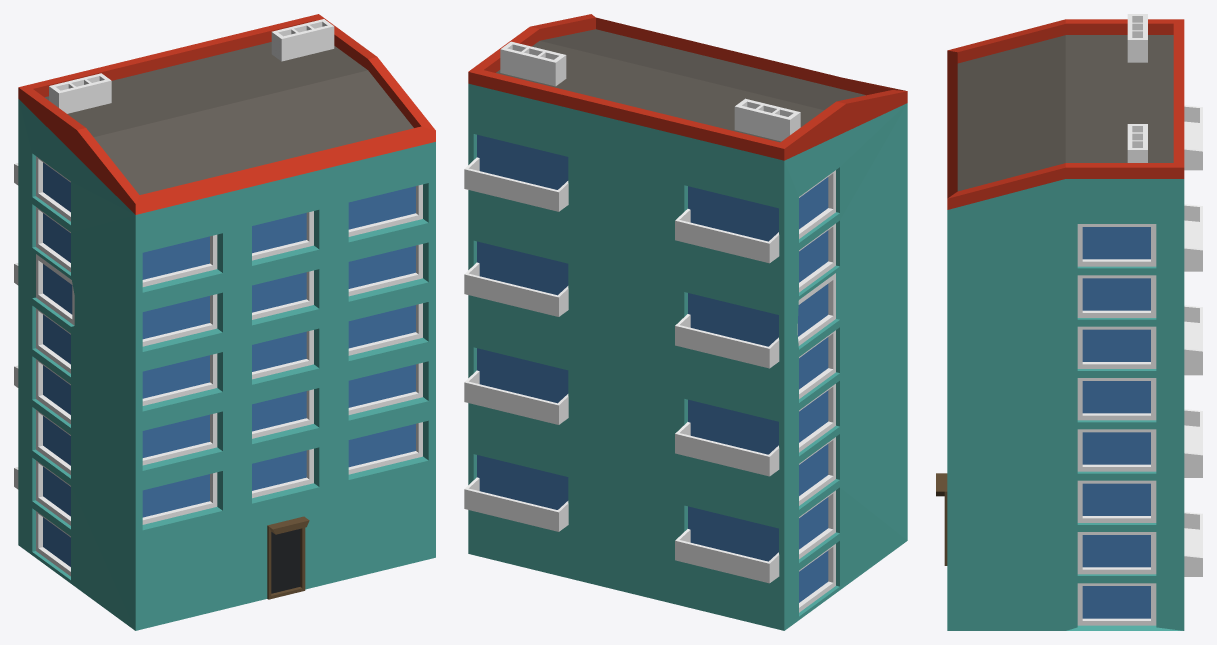
File: Building_7.fbx
3 views of the same model, side by side, from view 1: azimuth 30°, elevation 25°; view 2: azimuth 150°, elevation 25°; view 3: azimuth 270°, elevation 25° (orthographic). The views are drawn at different scales.
Visible parts, largest first — view 1: Building_7; view 2: Building_7; view 3: Building_7.
Part boxes in pixels (left/top/right/bottom): Building_7: left=14, top=14, right=435, bottom=630; Building_7: left=464, top=14, right=907, bottom=630; Building_7: left=936, top=14, right=1202, bottom=630.
Size of the model in its own units: 779 by 1163 by 592.
